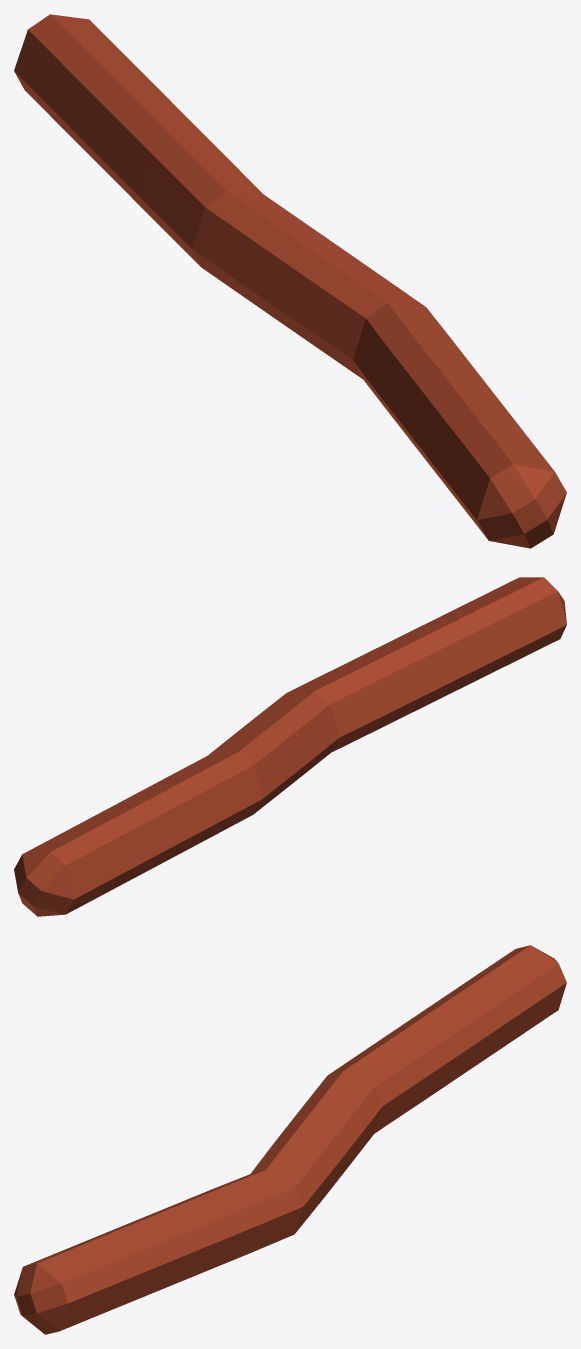
Rendered from Stick4.fbx.
The picture shows the model from 3 angles, top to bottom: view 1: azimuth 30°, elevation 25°; view 2: azimuth 150°, elevation 25°; view 3: azimuth 330°, elevation 25°; orthographic projection. The views are drawn at different scales.
Visible parts, largest first — view 1: Vert; view 2: Vert; view 3: Vert.
Boxes of the visible parts, x1,y1,x2,y2 form: Vert: (14, 14, 566, 548); Vert: (14, 577, 566, 916); Vert: (14, 945, 566, 1334).
Size of the model in its own units: 12.3 by 8.92 by 74.66.
